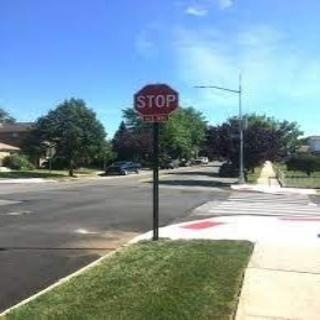sign_stop: (135, 82, 178, 118)
